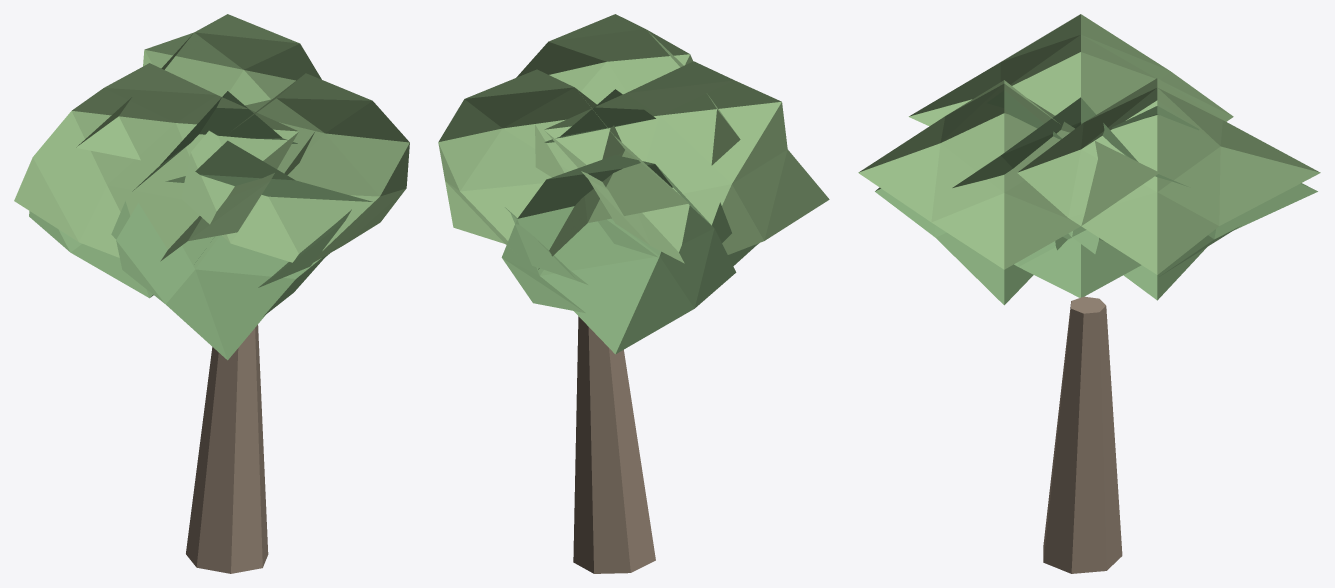
The model's file is broadleaf_v26.glb.
3 renders of one model, left to right at view 1: azimuth 30°, elevation 25°; view 2: azimuth 150°, elevation 25°; view 3: azimuth 270°, elevation 25°, orthographic. The views are drawn at different scales.
Visible parts, largest first — view 1: lod0; view 2: lod0; view 3: lod0.
Boxes of the visible parts, bbox=[...] form: lod0: bbox=[14, 14, 409, 573]; lod0: bbox=[438, 14, 829, 573]; lod0: bbox=[858, 14, 1320, 573].
Size of what is drawn, in the model's own units: 3.54 by 4.83 by 4.01.
